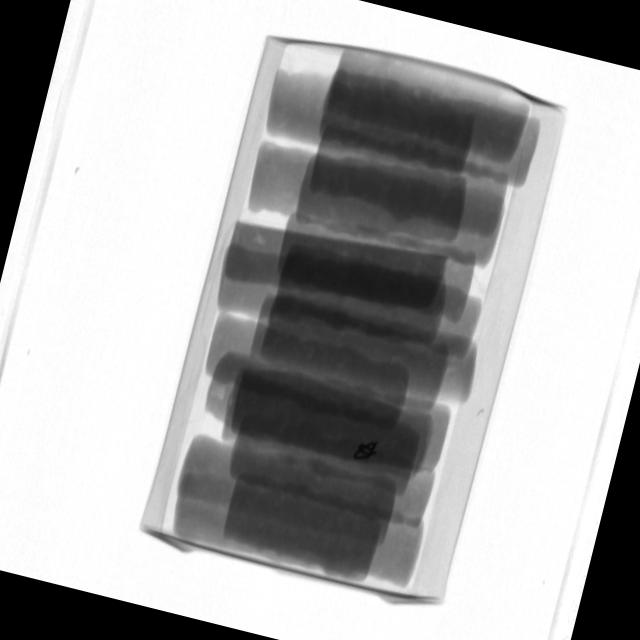ym: (354, 438, 378, 463)
